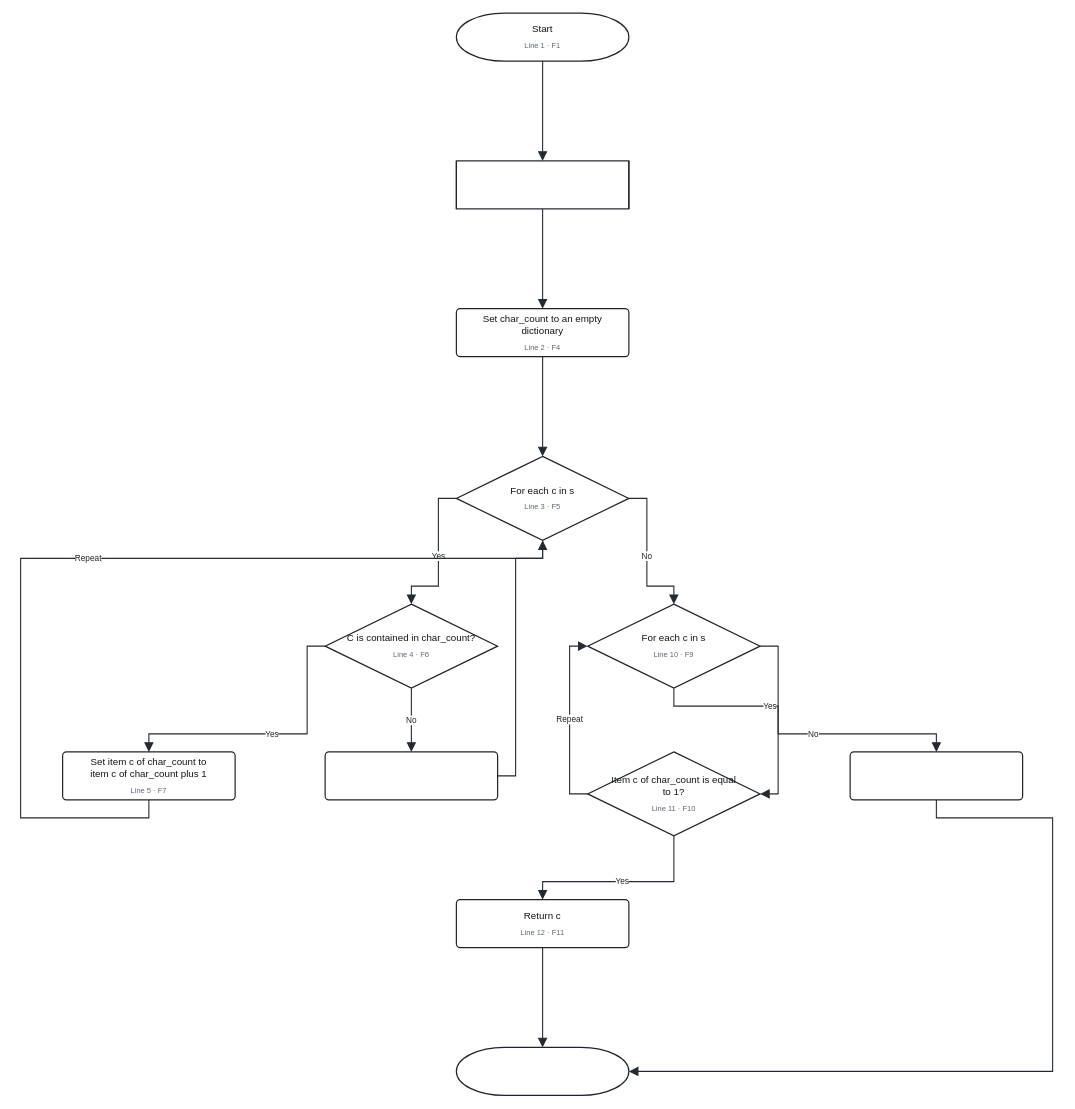
Some shapes in this 1075 by 1109 pixel diagram are drawn without their labels. The shapes that lost their labels are listed below. From the top down, each one's box as (x1, y1, x2, y2) in pixels, then its label:
(455, 160, 629, 209): Run function FIRST_NON_REPEATING_CHARACTER with s Line 1 · F3
(324, 751, 498, 800): Set item c of char_count to 1 Line 7 · F8
(849, 751, 1023, 800): Return NULL Line 15 · F12
(455, 1046, 629, 1096): End Line 1 · F2
